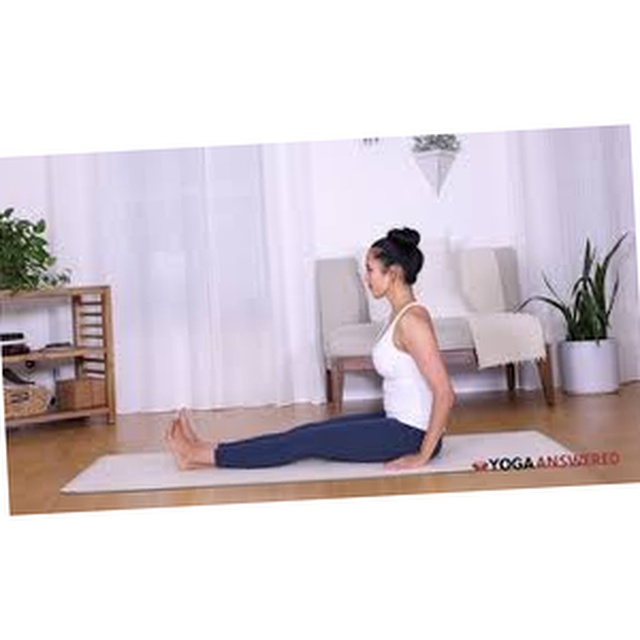Staff_Pose: (166, 226, 456, 472)
